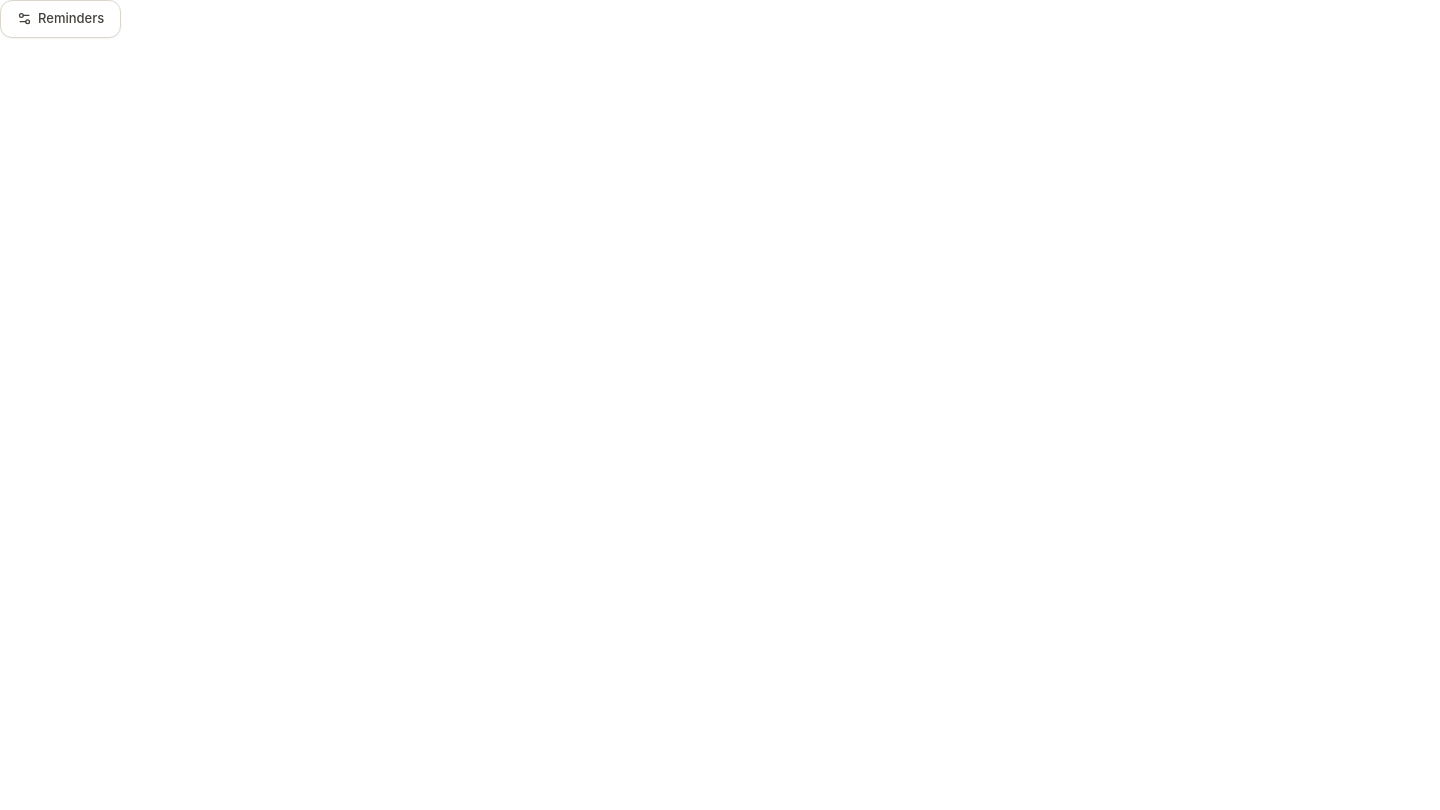
Scenario: reminder settings › picks reminders from one dropdown instead of a wall of chips
Later steps or results of the test are not shown.
Click the button "Reminders": (61, 19) top-left (0, 0), bottom-right (121, 38)
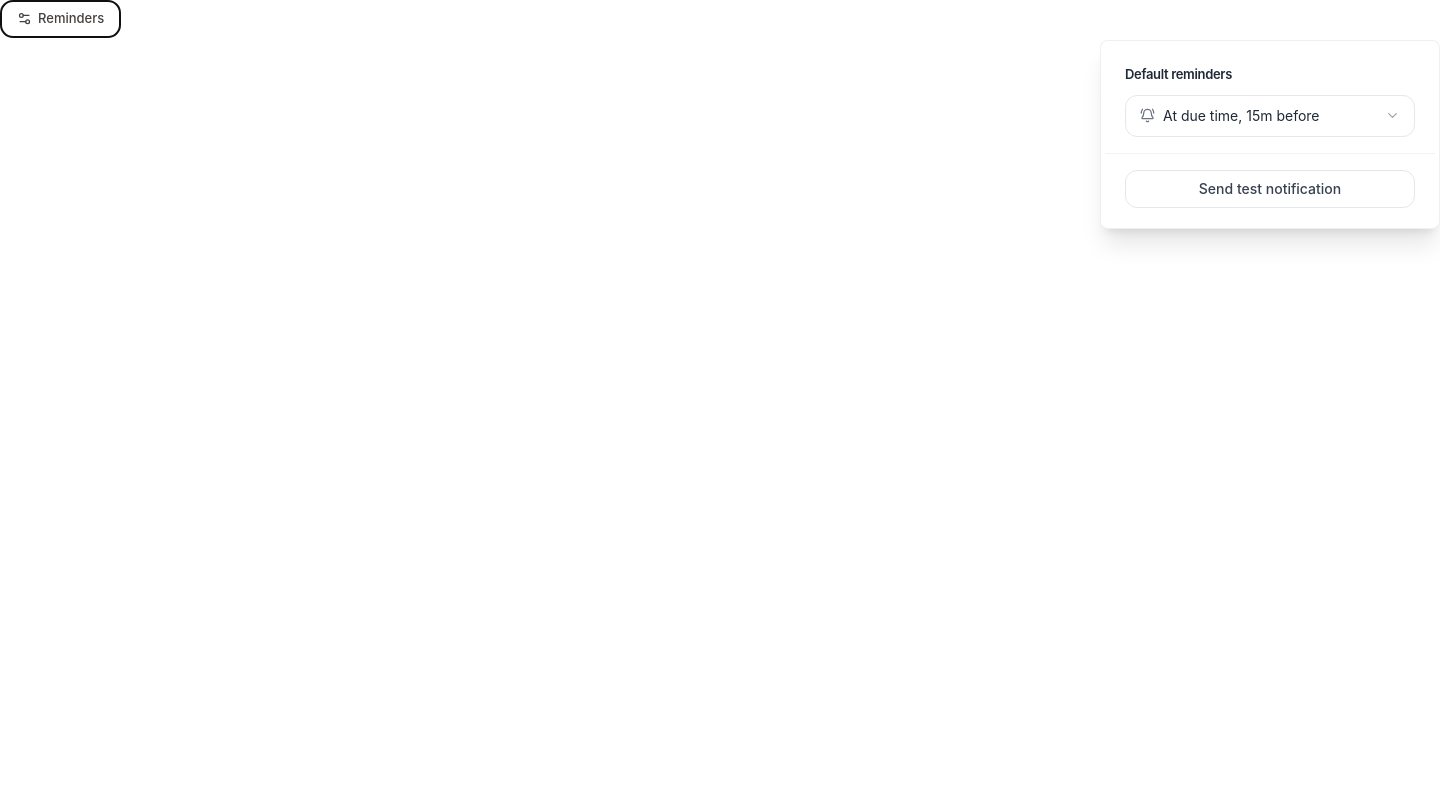
expect the button with aria-label "Default reminders" reads "At due time, 15m before": met
Click the button with aria-label "Default reminders": (1270, 116) top-left (1125, 94), bottom-right (1415, 136)
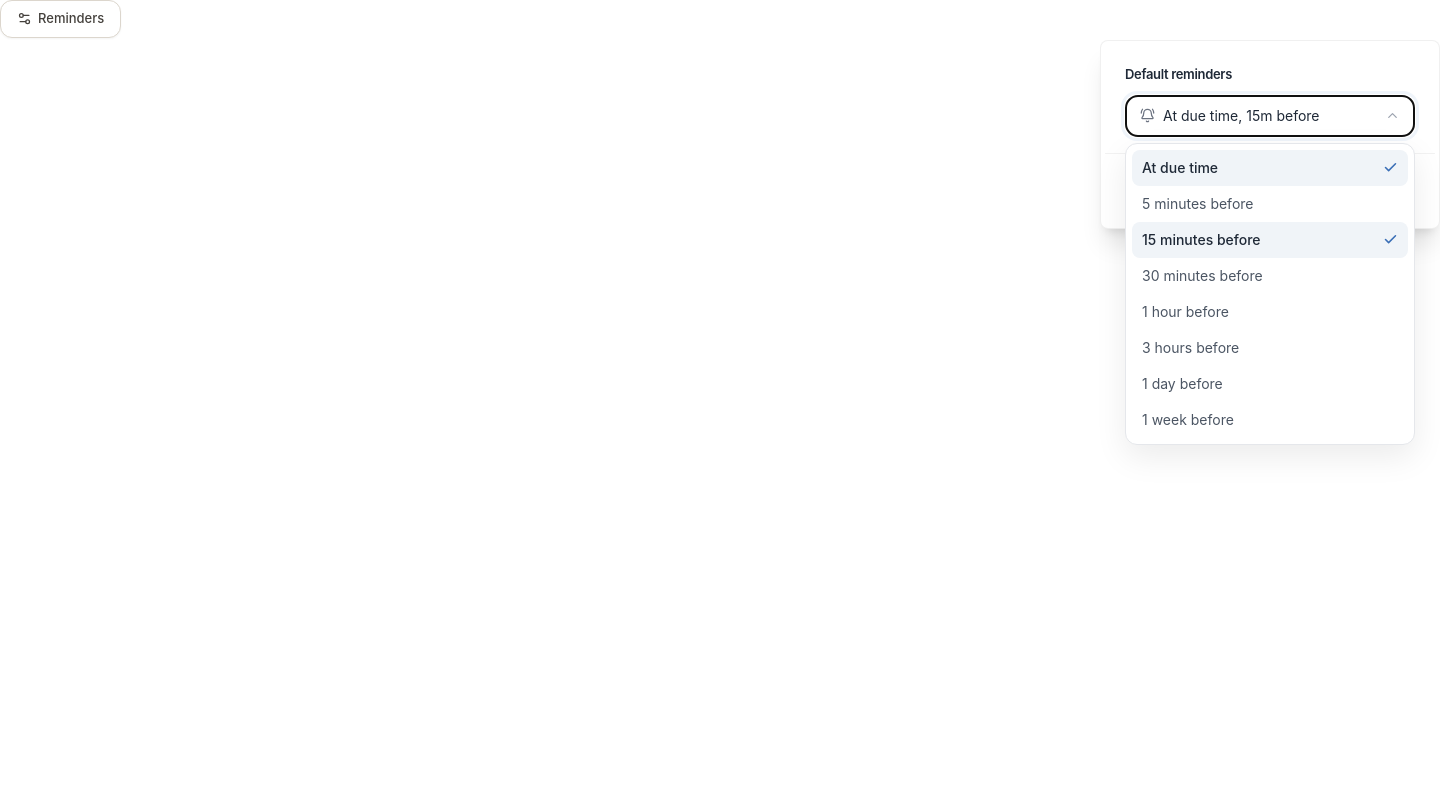
expect the number of options is 8: met
